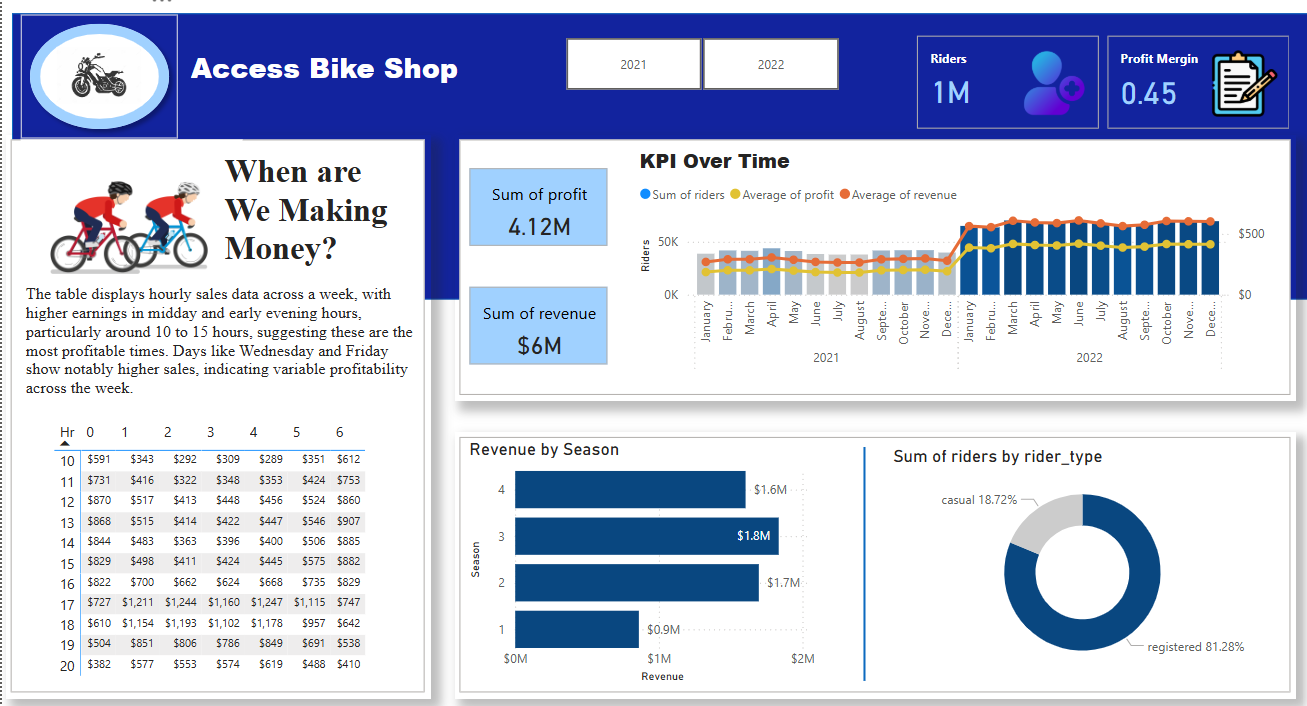

What the dashboard file says about the page in this screenshot:
{"tool":"powerbi","page":{"name":"Page 1","canvas":[1280,720],"ordinal":0},"visuals":[{"type":"shape","box":[9.3,36,1270.9,280.2],"z":0},{"type":"cardVisual","fields":{"Data":["Sum(Query1.riders)"]},"box":[4.1,153.7,415.8,551.6],"z":1000},{"type":"cardVisual","fields":{"Data":["Sum(Query1.riders)"]},"box":[443.2,153.7,823.3,260.7],"z":2000},{"type":"cardVisual","fields":{"Data":["Sum(Query1.riders)"]},"box":[443.2,444.6,823.3,260.7],"z":3000},{"type":"cardVisual","fields":{"Data":["Sum(Query1.riders)"]},"box":[13.7,153.7,227.8,142.7],"z":4000},{"type":"pivotTable","fields":{"Rows":["Query1.Hr"],"Values":["Avg(Query1.revenue)"],"Columns":["Query1.Weekday"]},"box":[46.5,429.1,332.6,266.3],"z":5000},{"type":"textbox","box":[212.7,166,186.6,130.4],"z":6000},{"type":"textbox","box":[17.8,296.4,389.7,133.1],"z":7000},{"type":"lineClusteredColumnComboChart","title":"KPI Over Time","fields":{"Category":["Query1.Date.Variation.Date Hierarchy.Year","Query1.Date.Variation.Date Hierarchy.Month","Query1.Date.Variation.Date Hierarchy.Day"],"Y":["Sum(Query1.riders)"],"Y2":["Avg(Query1.profit)","Avg(Query1.revenue)"]},"box":[618.8,166.3,639.5,238.5],"z":8000},{"type":"clusteredBarChart","fields":{"Category":["Query1.Season"],"Y":["Sum(Query1.revenue)"]},"box":[452.3,451.2,360.5,244.2],"z":9000},{"type":"donutChart","fields":{"Category":["Query1.rider_type"],"Y":["Sum(Query1.riders)"]},"box":[867.4,458.1,380.2,229.1],"z":10000},{"type":"shape","box":[831.4,459.3,24.4,229.1],"z":11000},{"type":"cardVisual","title":"KPI Over Time","fields":{"Data":["Sum(Query1.profit)","Sum(Query1.revenue)"]},"box":[452.4,182.2,145.5,203],"z":12000},{"type":"cardVisual","fields":{"Data":["Sum(Query1.riders)","Query1.Measure"]},"box":[890.2,52.6,375.4,101.5],"z":13000},{"type":"slicer","fields":{"Values":["Query1.Years"]},"box":[525.8,52.6,316.7,64.8],"z":14000},{"type":"shape","box":[18.3,36.7,154.1,121.1],"z":15000},{"type":"image","box":[47.7,63.6,94.2,64.8],"z":16000},{"type":"textbox","box":[179.8,64.8,294.7,51.4],"z":17000}]}

Visuals, with their boxes on the page's 1280x720 design canvas (x1, y1, x2, y2). These are canvas units, not pixel positions in the 1307x706 screenshot, which may show the page scaled, cropped or inside an application window:
shape: <box>9,36,1280,316</box>
cardVisual - Sum(Query1.riders): <box>4,154,420,705</box>
cardVisual - Sum(Query1.riders): <box>443,154,1266,414</box>
cardVisual - Sum(Query1.riders): <box>443,445,1266,705</box>
cardVisual - Sum(Query1.riders): <box>14,154,242,296</box>
pivotTable - Query1.Hr x Avg(Query1.revenue): <box>46,429,379,695</box>
textbox: <box>213,166,399,296</box>
textbox: <box>18,296,408,430</box>
"KPI Over Time" lineClusteredColumnComboChart: <box>619,166,1258,405</box>
clusteredBarChart - Query1.Season x Sum(Query1.revenue): <box>452,451,813,695</box>
donutChart - Query1.rider_type x Sum(Query1.riders): <box>867,458,1248,687</box>
shape: <box>831,459,856,688</box>
"KPI Over Time" cardVisual: <box>452,182,598,385</box>
cardVisual - Sum(Query1.riders) x Query1.Measure: <box>890,53,1266,154</box>
slicer - Query1.Years: <box>526,53,842,117</box>
shape: <box>18,37,172,158</box>
image: <box>48,64,142,128</box>
textbox: <box>180,65,474,116</box>
